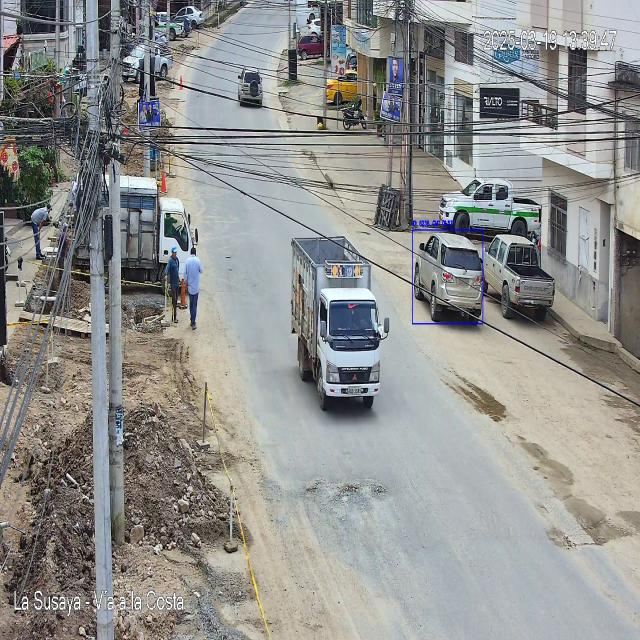TRUCK: (289, 235, 389, 418)
